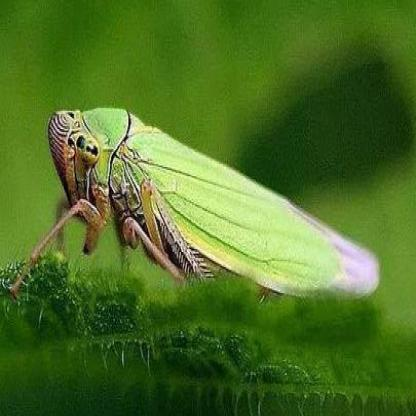Green-Leafhopper: (5, 102, 385, 306)
